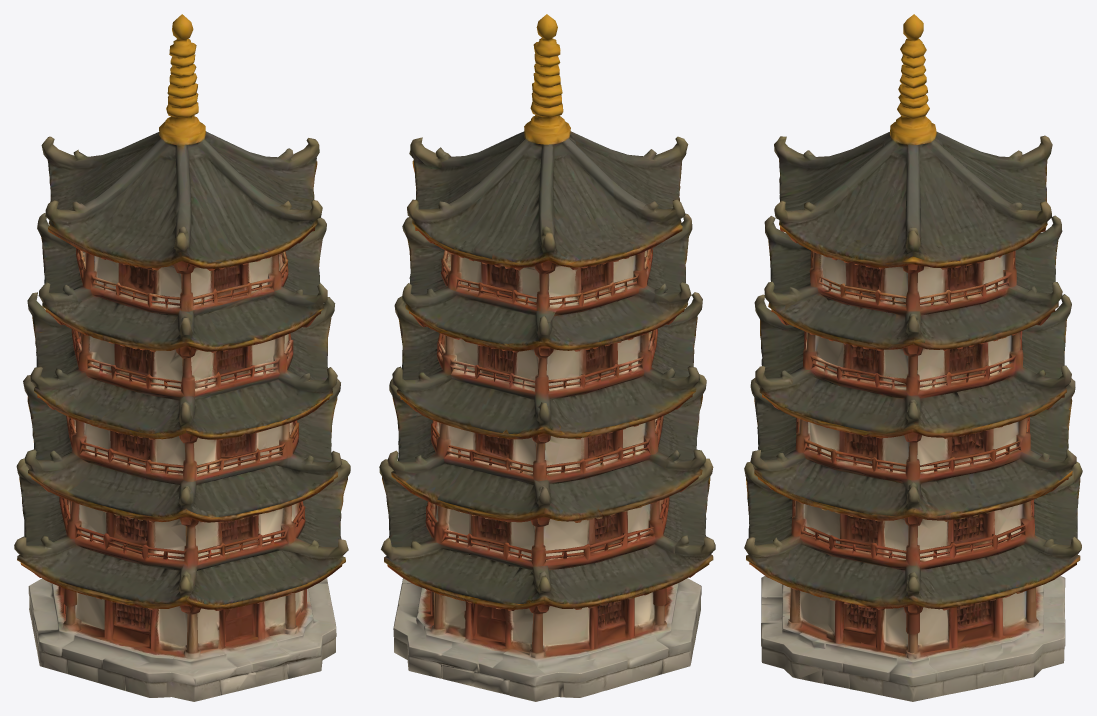
File: leifeng.glb
The picture shows the model from 3 angles, left to right: view 1: azimuth 30°, elevation 25°; view 2: azimuth 150°, elevation 25°; view 3: azimuth 270°, elevation 25°; orthographic projection.
Visible parts, largest first — view 1: tripo_node_1f398f33-965f-4126-8dbc-eadf28b3f4bc; view 2: tripo_node_1f398f33-965f-4126-8dbc-eadf28b3f4bc; view 3: tripo_node_1f398f33-965f-4126-8dbc-eadf28b3f4bc.
Part boxes in pixels (x1,y1,x2,y2): tripo_node_1f398f33-965f-4126-8dbc-eadf28b3f4bc: (14, 14, 350, 701); tripo_node_1f398f33-965f-4126-8dbc-eadf28b3f4bc: (379, 14, 715, 701); tripo_node_1f398f33-965f-4126-8dbc-eadf28b3f4bc: (744, 14, 1082, 701).
Size of the model in its own units: 0.5559 by 0.9802 by 0.4866.
1 material, 1 textured.
